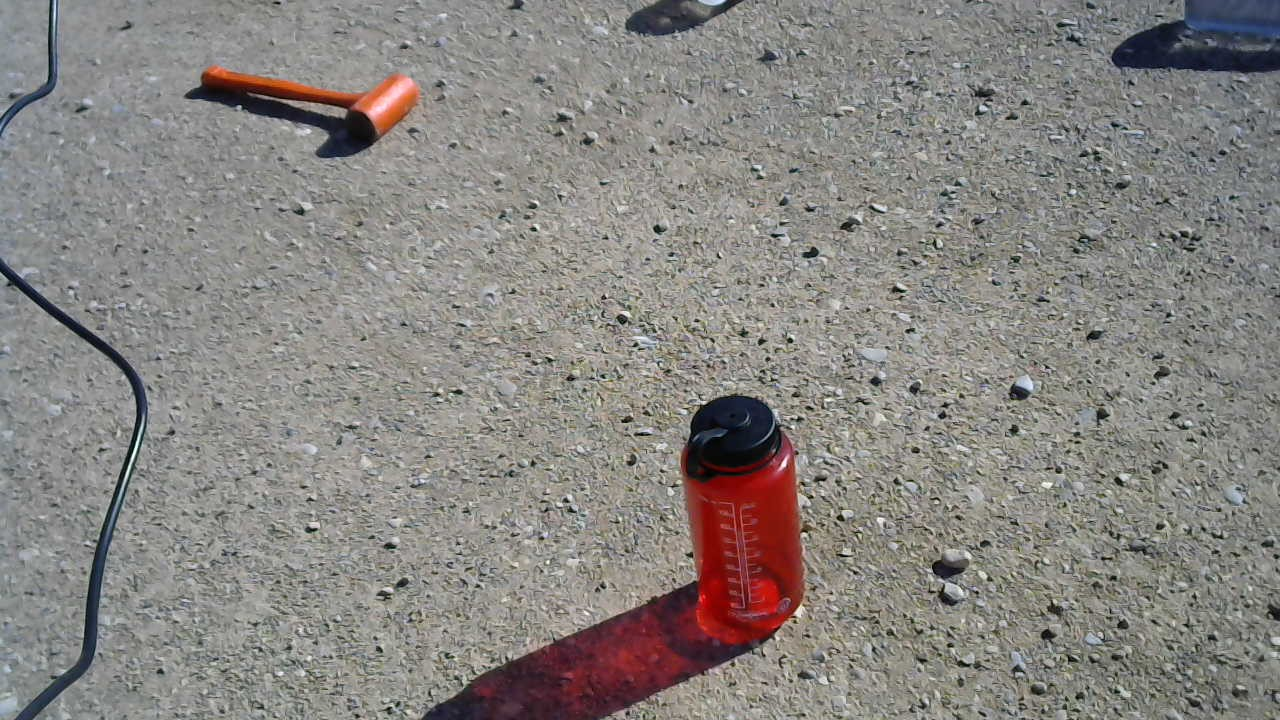bottle: (675, 389, 809, 634)
hammer: (195, 60, 427, 151)
